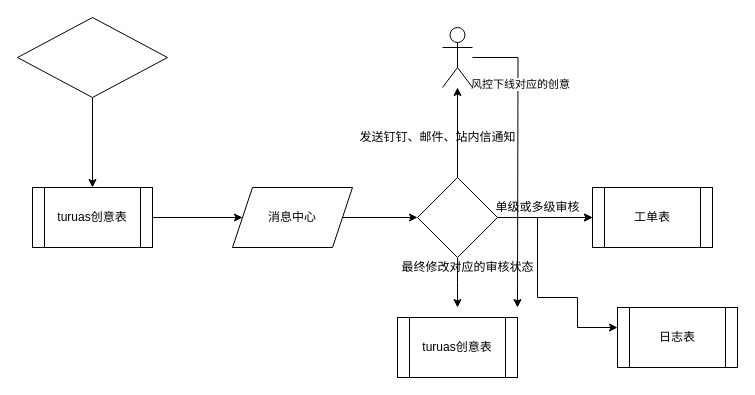
Some shapes in this 755 by 395 pixel diagram are drawn without their labels. Each missing label, with the box of its shape:
Actor: (442, 26, 472, 88)
bp增删改查: (16, 16, 168, 98)
bss审核: (416, 176, 498, 258)
